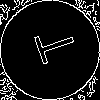T: (25, 25, 78, 69)
